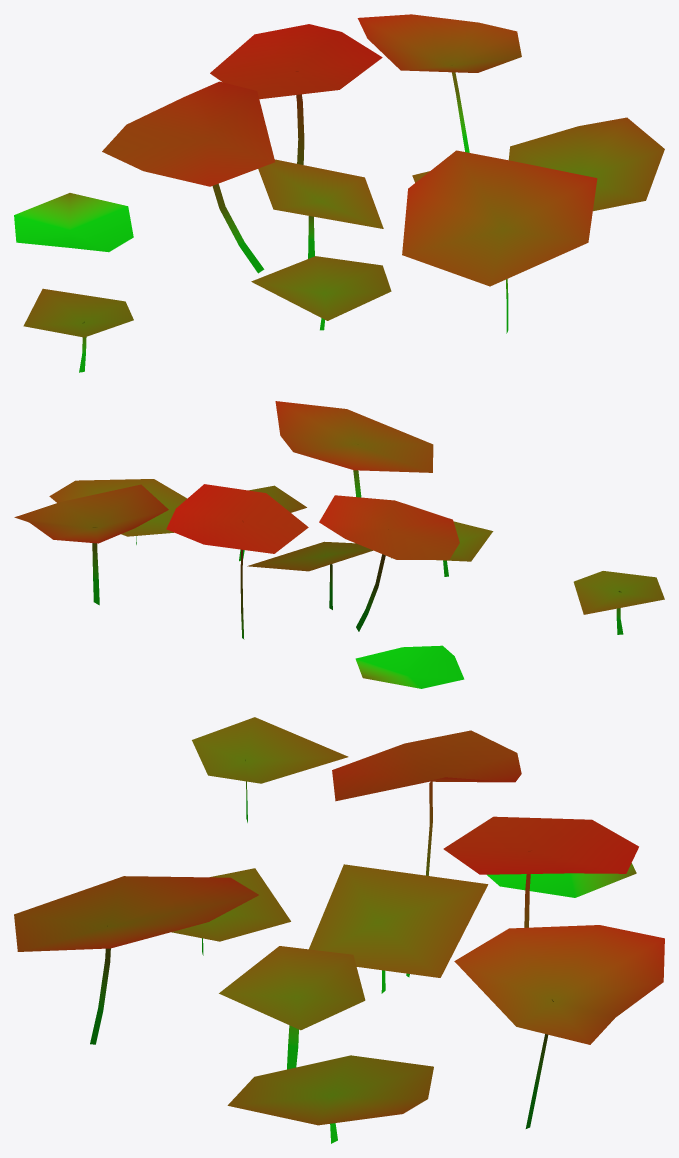
Rendered from Var1_LOD1.fbx.
3 renders of one model, top to bottom at view 1: azimuth 30°, elevation 25°; view 2: azimuth 150°, elevation 25°; view 3: azimuth 270°, elevation 25°, orthographic. The views are drawn at different scales.
Parts seen in each view (by area): view 1: _f3d6_Var1_LOD1; view 2: _f3d6_Var1_LOD1; view 3: _f3d6_Var1_LOD1.
Part boxes in pixels (left/top/right/bottom): _f3d6_Var1_LOD1: left=14, top=14, right=664, bottom=372; _f3d6_Var1_LOD1: left=14, top=401, right=664, bottom=688; _f3d6_Var1_LOD1: left=14, top=717, right=664, bottom=1143.
Size of the model in its own units: 26.74 by 6.45 by 18.26.
